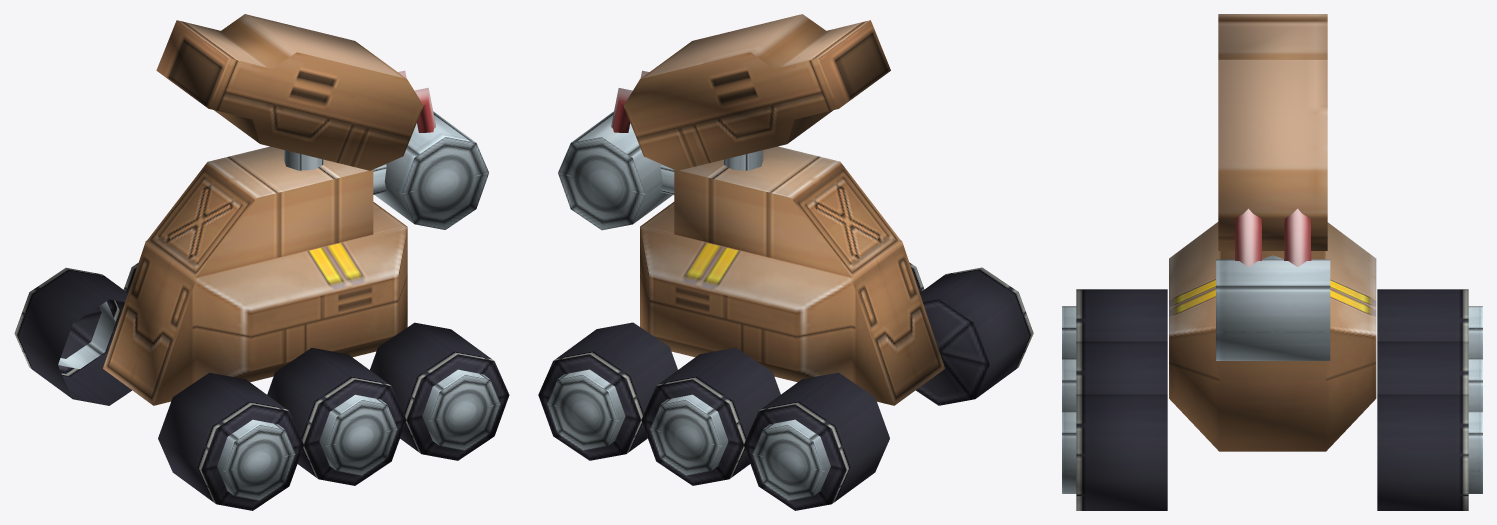
File: robogrenade_skin.FBX
3 renders of one model, left to right at view 1: azimuth 30°, elevation 25°; view 2: azimuth 150°, elevation 25°; view 3: azimuth 270°, elevation 25°, orthographic. The views are drawn at different scales.
Parts seen in each view (by area): view 1: Box126; view 2: Box126; view 3: Box126.
Boxes of the visible parts, bbox=[...] form: Box126: bbox=[14, 14, 509, 510]; Box126: bbox=[538, 14, 1033, 510]; Box126: bbox=[1062, 14, 1482, 510].
Size of the model in its own units: 138 by 135 by 146.
